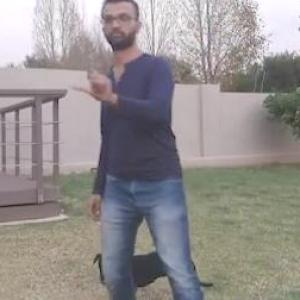land_hand: (72, 55, 116, 101)
